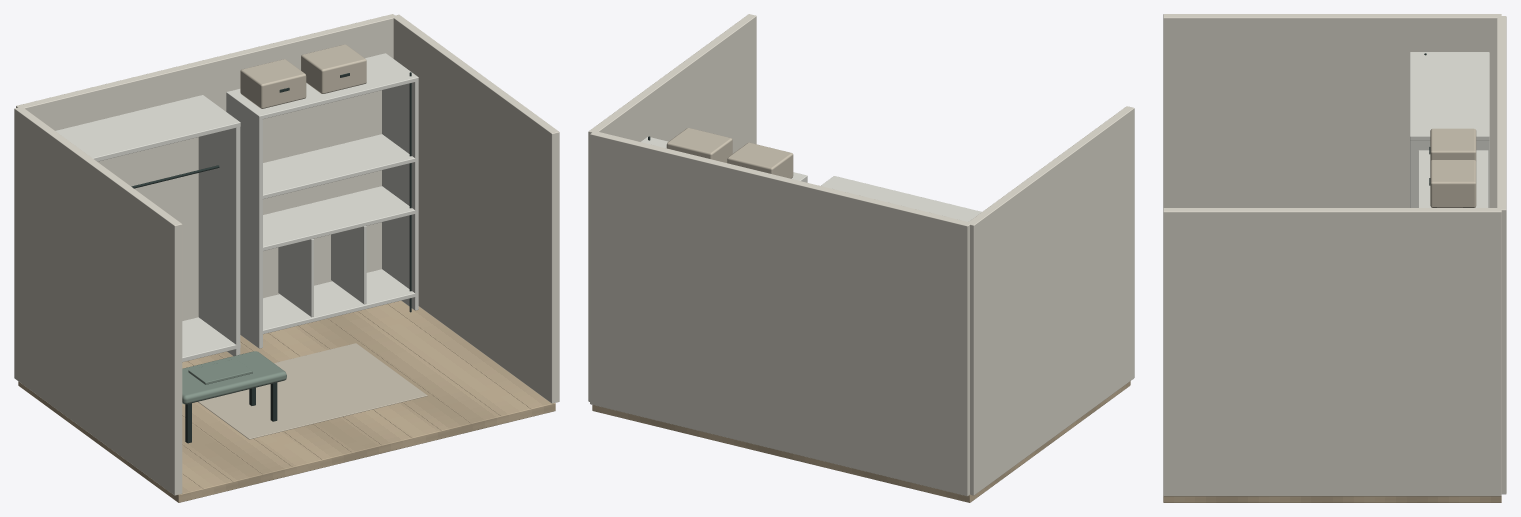
Rendered from room.glb.
The picture shows the model from 3 angles, left to right: view 1: azimuth 30°, elevation 25°; view 2: azimuth 150°, elevation 25°; view 3: azimuth 270°, elevation 25°; orthographic projection. The views are drawn at different scales.
Visible parts, largest first — view 1: warm_plaster, powder_coat, original_birch_grain, ivory_woven, sage_woven, graphite_steel; view 2: warm_plaster, original_birch_grain, ivory_woven, powder_coat; view 3: warm_plaster, powder_coat, ivory_woven, original_birch_grain.
Part boxes in pixels (x1,y1,x2,y2): warm_plaster: (14,14,559,495); powder_coat: (55,53,418,362); original_birch_grain: (18,300,555,502); ivory_woven: (198,44,427,439); sage_woven: (182,351,286,404); graphite_steel: (131,72,411,443); warm_plaster: (588,14,1134,496); original_birch_grain: (592,381,1130,502); ivory_woven: (666,128,793,178); powder_coat: (641,136,981,221); warm_plaster: (1163,14,1506,496); powder_coat: (1410,52,1489,207); ivory_woven: (1430,128,1476,207); original_birch_grain: (1163,496,1501,502).
Size of the model in its own units: 3.88 by 2.68 by 2.84.
6 materials, 1 textured.
